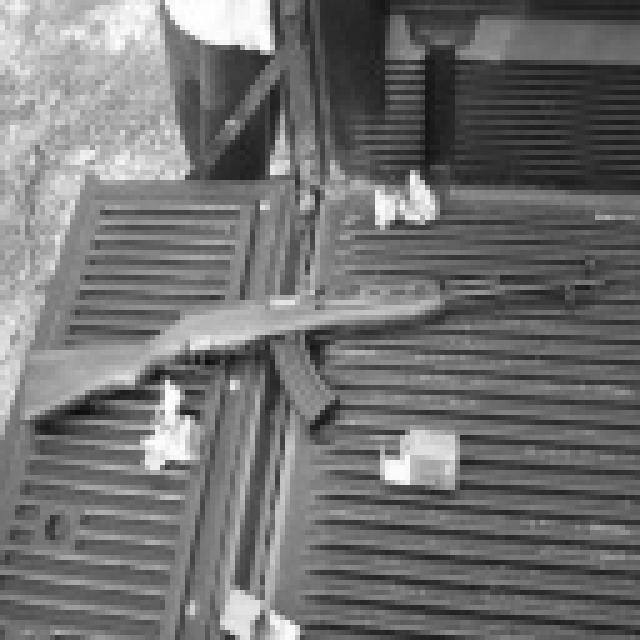Rifle: (0, 224, 622, 465)
